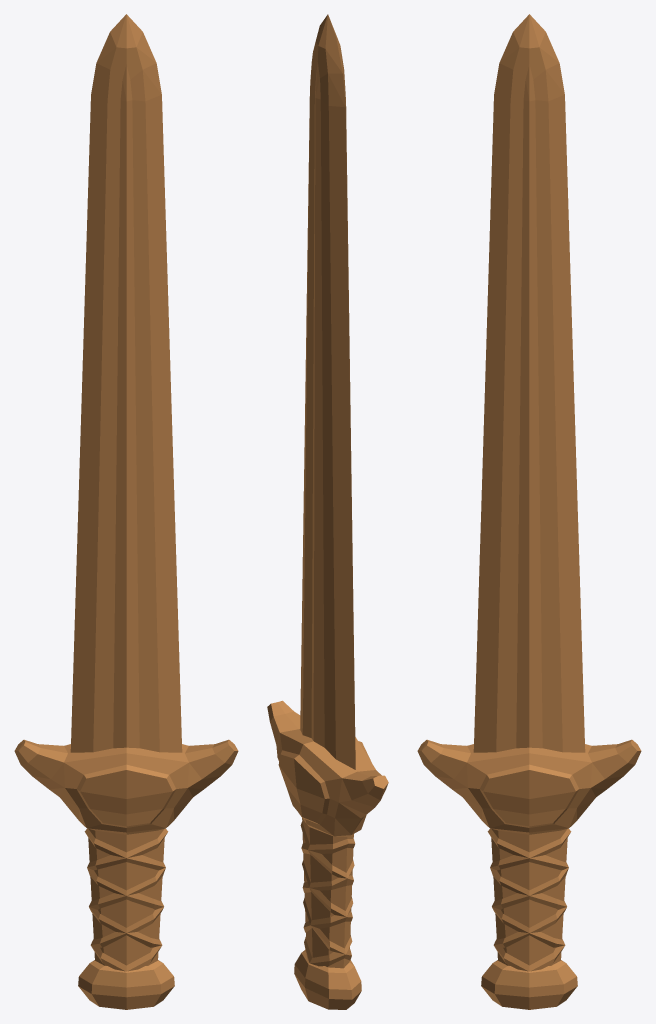
The model's file is Copper_Sword_Flat.fbx.
The picture shows the model from 3 angles, left to right: view 1: azimuth 90°, elevation 25°; view 2: azimuth 210°, elevation 25°; view 3: azimuth 270°, elevation 25°; orthographic projection.
Parts seen in each view (by area): view 1: Sword_Copper_Flat; view 2: Sword_Copper_Flat; view 3: Sword_Copper_Flat.
Part boxes in pixels (x1=…): Sword_Copper_Flat: x1=14, y1=14, x2=238, y2=1009; Sword_Copper_Flat: x1=267, y1=14, x2=388, y2=1009; Sword_Copper_Flat: x1=417, y1=14, x2=641, y2=1009.
Bounding box in the file's own units: 0.2132 × 2.95 × 0.6057.
